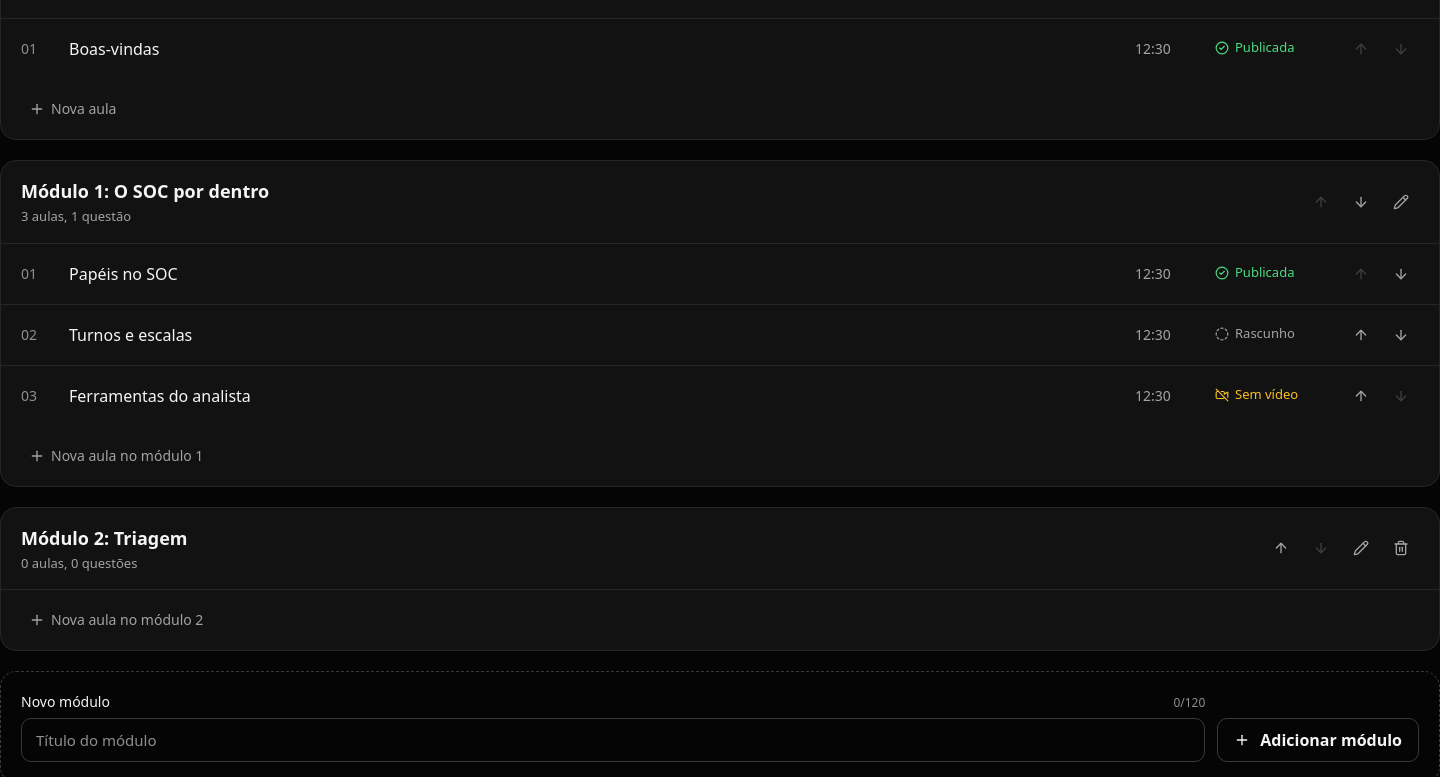
Test: estrutura do curso › excluir módulo pede confirmação e mostra o erro do banco
(page scrolled)
Click the button named "Excluir Módulo 2: Triagem" at {"x": 1401, "y": 548}, box [1383,530,1419,566]
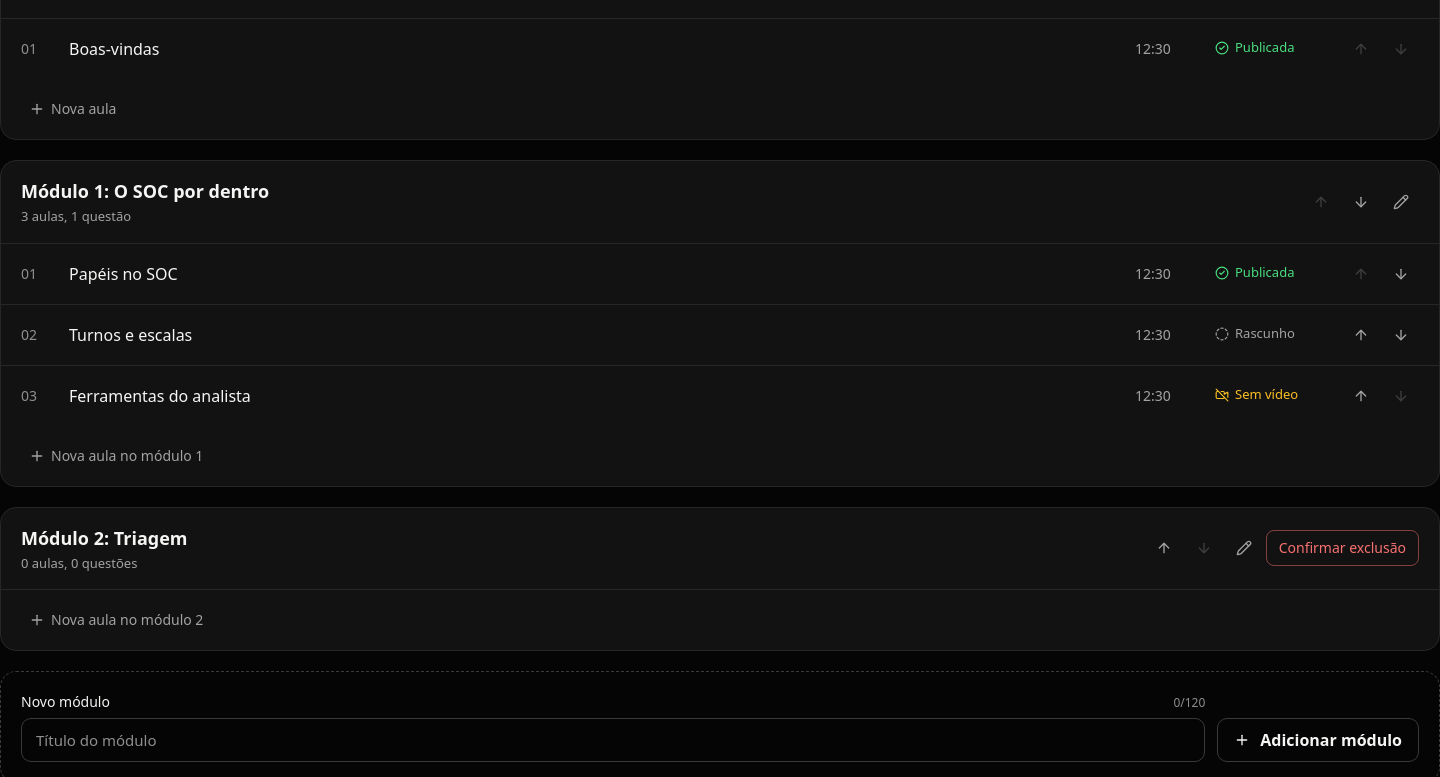
Click the button "Confirmar exclusão" at {"x": 1342, "y": 548}, box [1266,530,1419,566]
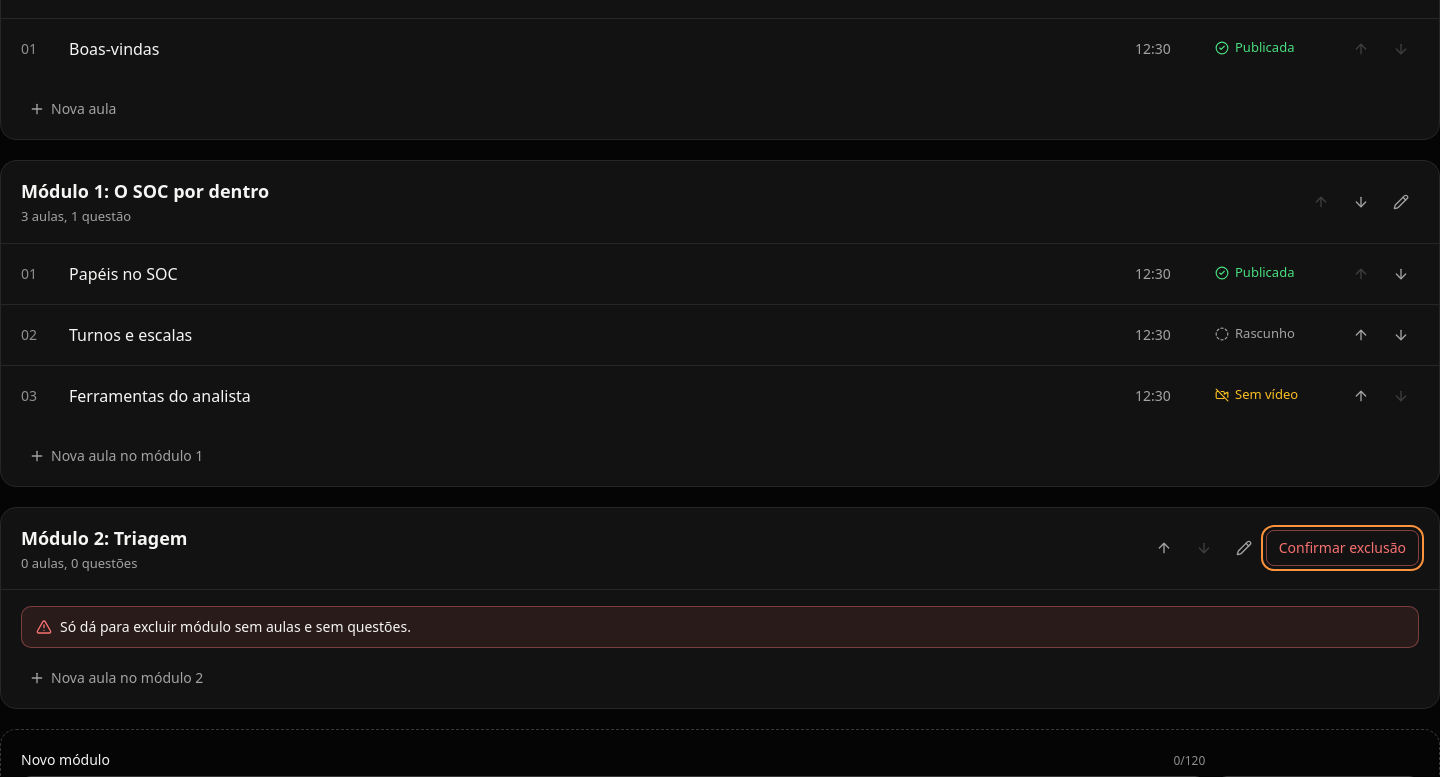
Expected: the message reads "Só dá para excluir módulo sem aulas e sem questões.", [60,617,411,636]
